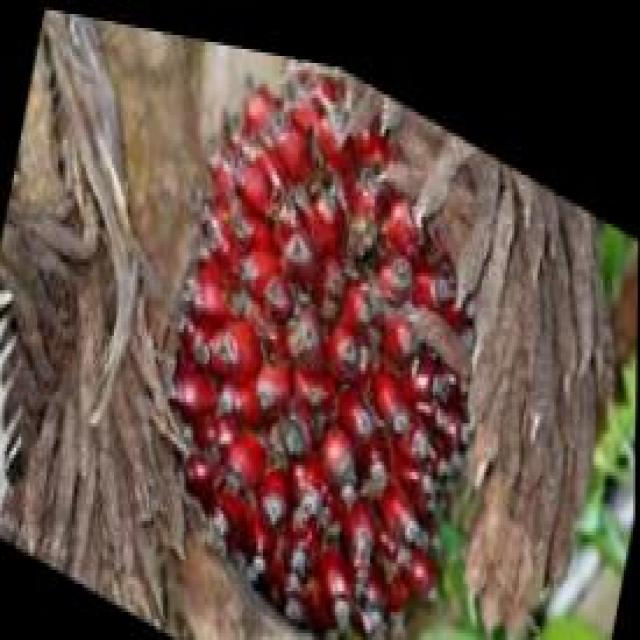Ripefruit: (130, 21, 514, 640)
